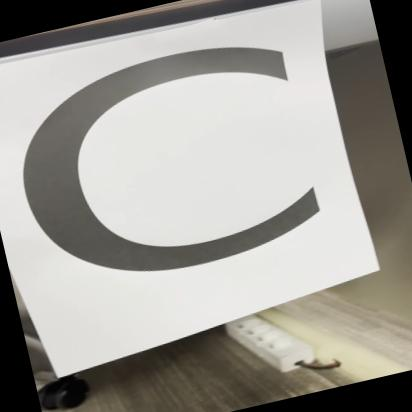seat: (0, 0, 399, 386)
